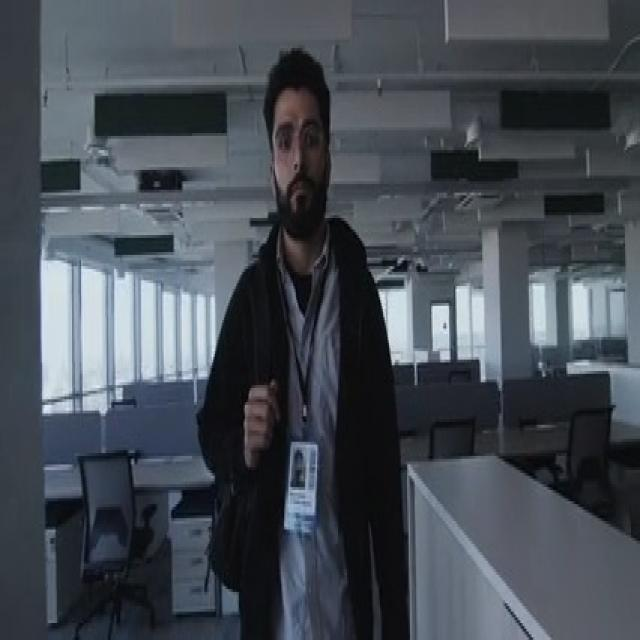Jacket_Wearer: (205, 205, 408, 640)
Person: (201, 42, 417, 640)
